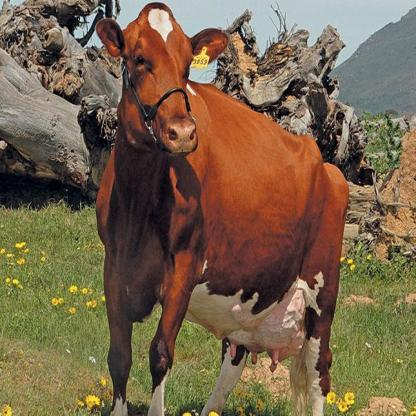cow: (97, 2, 349, 416)
